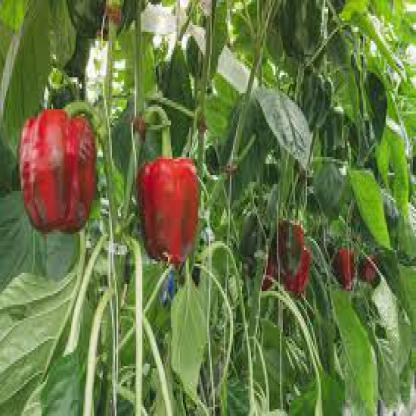capsicum_rotten: (138, 102, 204, 282)
